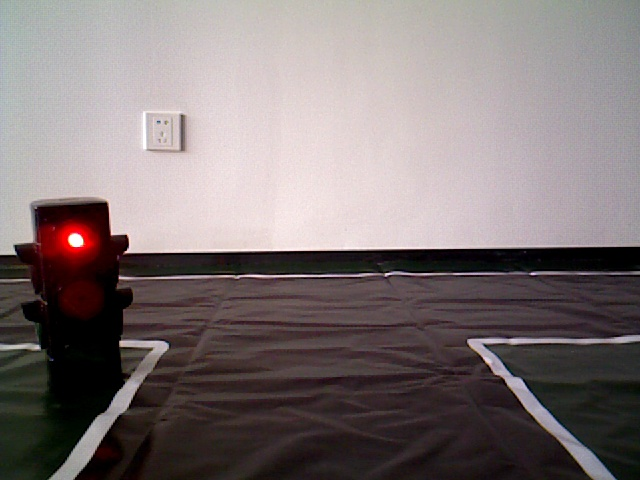red: (26, 204, 122, 377)
